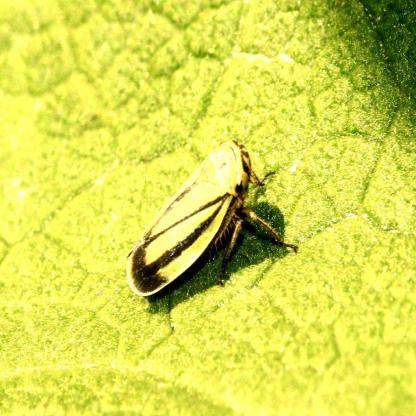green-leafhopper: (126, 140, 300, 304)
